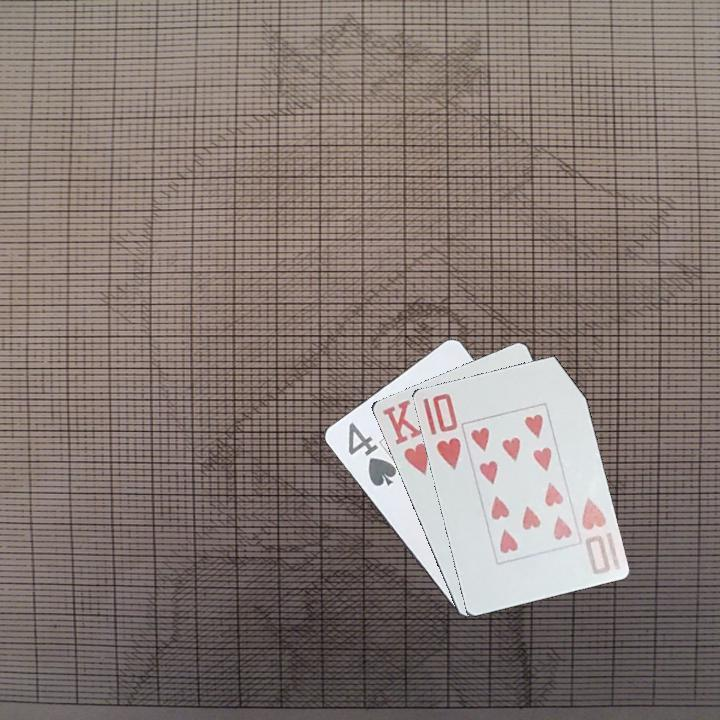4s: (344, 418, 400, 489)
Kh: (378, 396, 431, 478)
Th: (577, 494, 623, 577), (428, 389, 464, 473)
